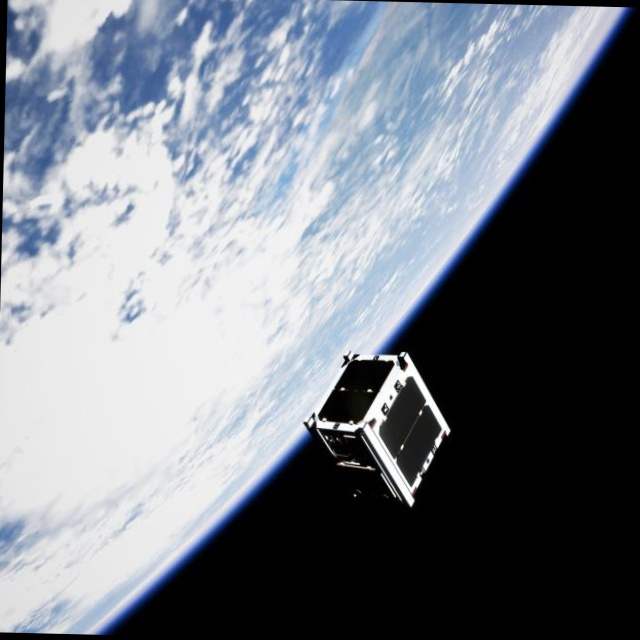satellite: (304, 348, 464, 511)
